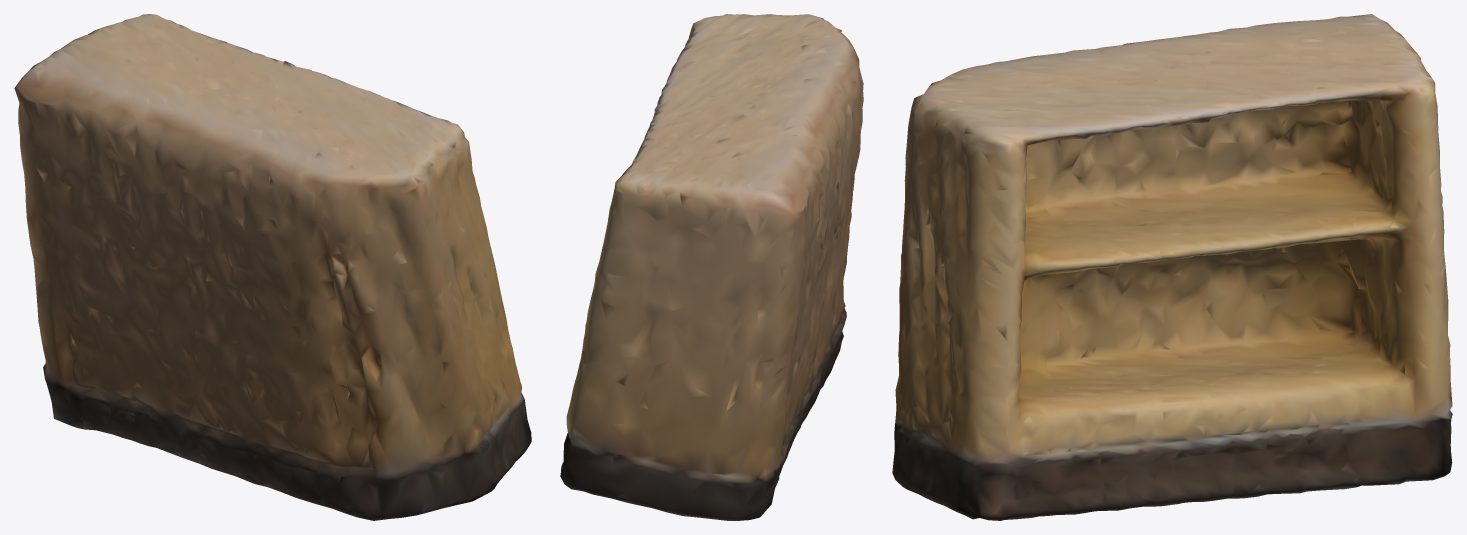
The picture shows the model from 3 angles, left to right: view 1: azimuth 30°, elevation 25°; view 2: azimuth 150°, elevation 25°; view 3: azimuth 270°, elevation 25°; orthographic projection. The views are drawn at different scales.
Parts seen in each view (by area): view 1: geometry_0; view 2: geometry_0; view 3: geometry_0.
Boxes of the visible parts, bbox=[...] form: geometry_0: bbox=[14, 14, 531, 520]; geometry_0: bbox=[560, 14, 863, 520]; geometry_0: bbox=[892, 14, 1452, 520].
Bounding box in the file's own units: 0.9598 × 1 × 1.28.
